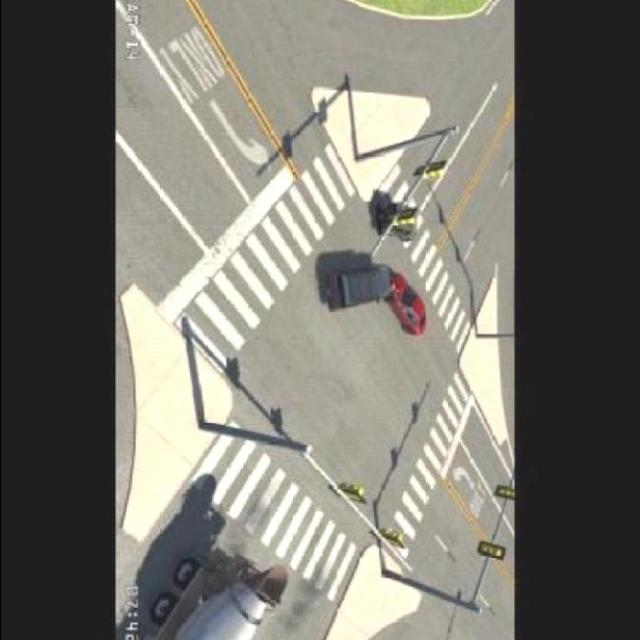accident: (322, 265, 423, 342)
